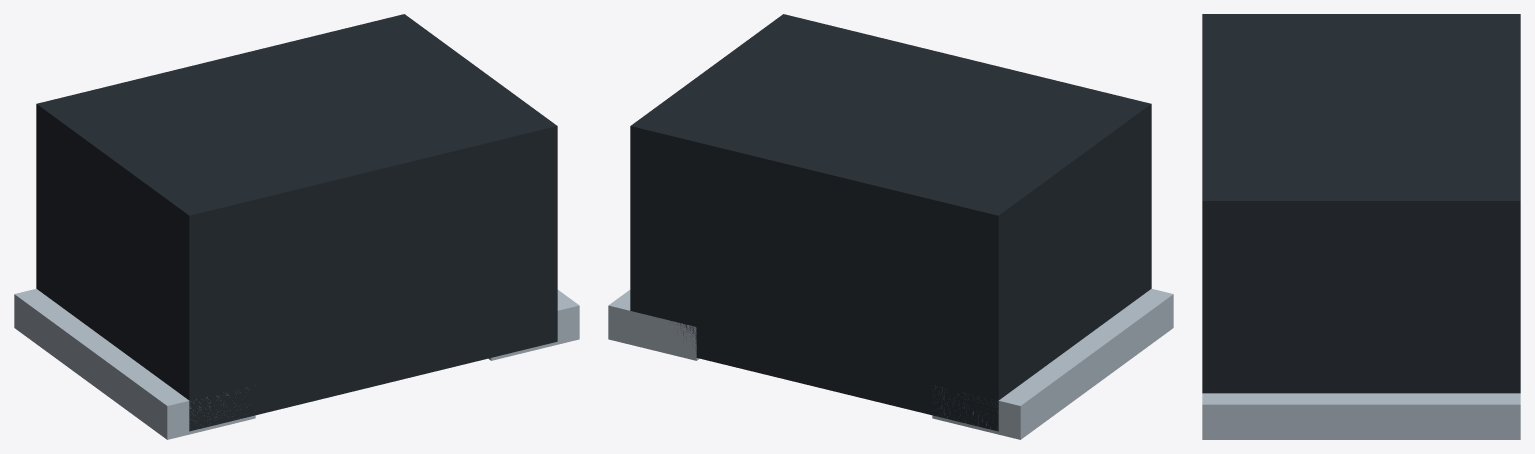
The model's file is 105_L106_FERRITE2.fbx.
3 views of the same model, side by side, from view 1: azimuth 30°, elevation 25°; view 2: azimuth 150°, elevation 25°; view 3: azimuth 270°, elevation 25° (orthographic). The views are drawn at different scales.
Visible parts, largest first — view 1: 105_L106_FERRITE2_000, 105_L106_FERRITE2_001, 105_L106_FERRITE2_002; view 2: 105_L106_FERRITE2_000, 105_L106_FERRITE2_001, 105_L106_FERRITE2_002; view 3: 105_L106_FERRITE2_000, 105_L106_FERRITE2_002.
Boxes of the visible parts, <box> form: 105_L106_FERRITE2_000: <box>36,14,557,431</box>; 105_L106_FERRITE2_001: <box>14,288,255,439</box>; 105_L106_FERRITE2_002: <box>488,290,579,360</box>; 105_L106_FERRITE2_000: <box>630,14,1151,431</box>; 105_L106_FERRITE2_001: <box>932,288,1173,439</box>; 105_L106_FERRITE2_002: <box>608,290,699,360</box>; 105_L106_FERRITE2_000: <box>1202,14,1520,393</box>; 105_L106_FERRITE2_002: <box>1202,393,1520,439</box>.
Bounding box in the file's own units: 0.0028 × 0.0018 × 0.00142.
